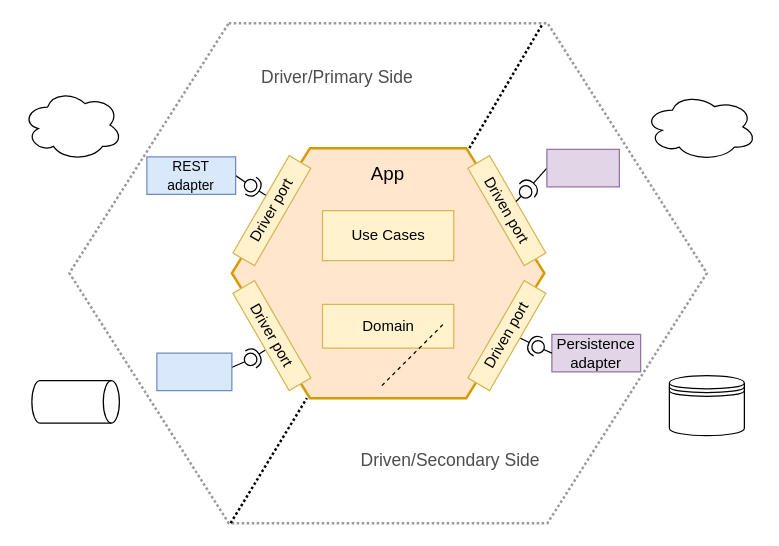
Some shapes in this 779 by 546 pixel diagram are drawn without their labels. The centre of each missing label's shape, as x and y in pixels:
"http adapter" belongs at (x=582, y=167).
"Queue adapter" belongs at (x=194, y=371).
